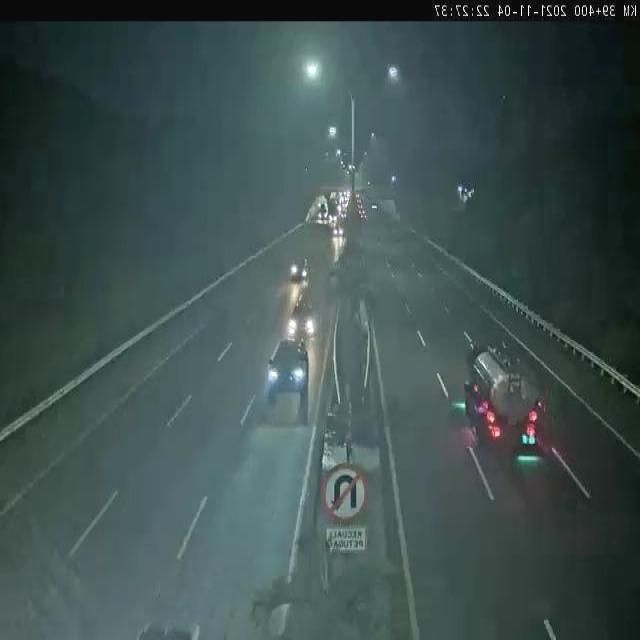Car: (259, 339, 310, 402), (286, 296, 321, 342), (286, 251, 316, 285)
Truck: (447, 346, 565, 464)
